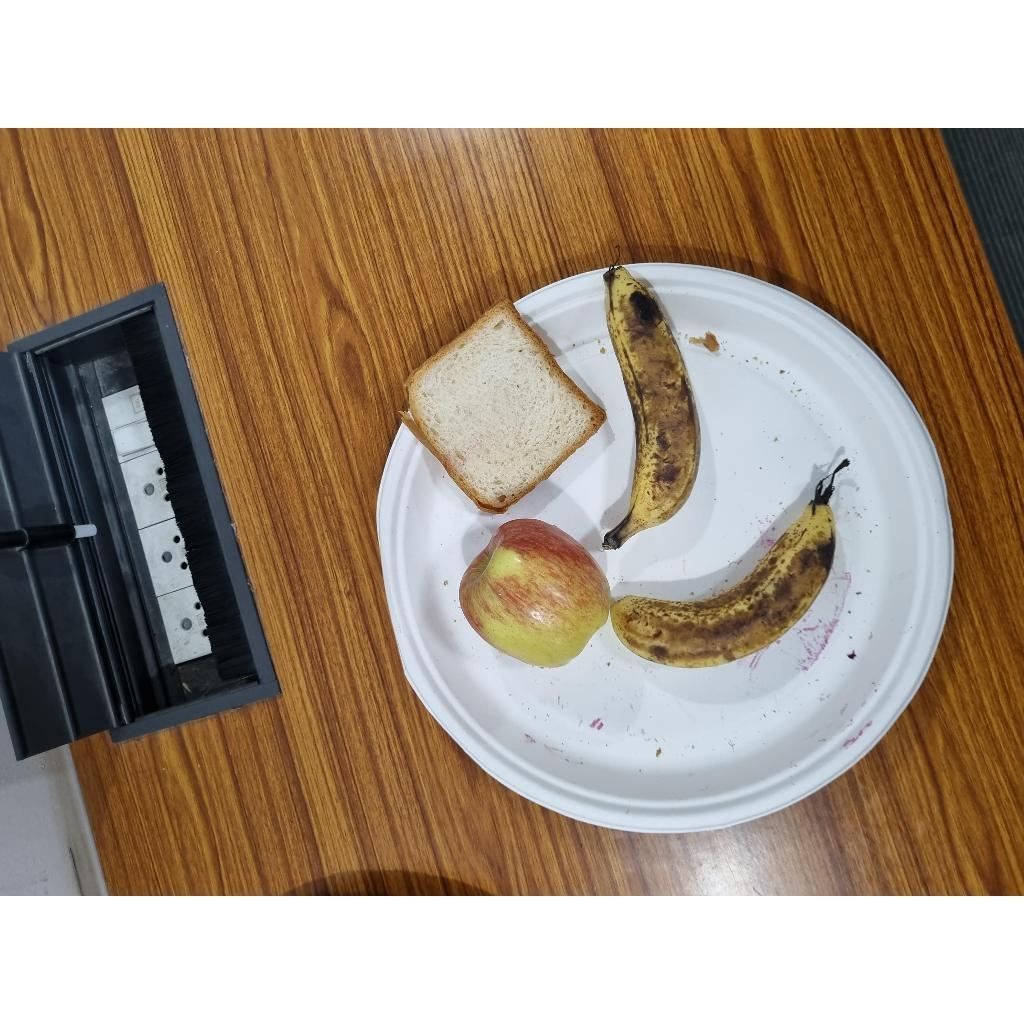apple: (454, 522, 605, 679)
banana: (614, 493, 836, 672), (607, 269, 696, 548)
